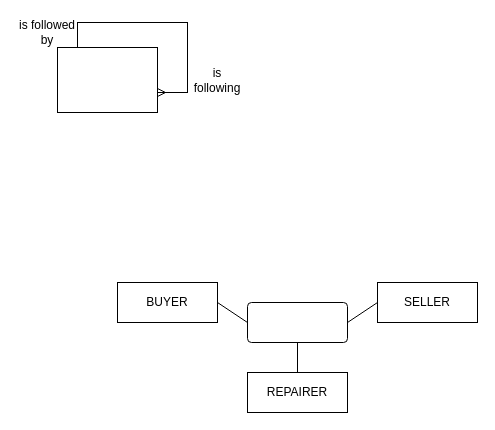
Image size: 495x430. Some labels were removed from this diagram. The centre of each missing label's shape, as x and y in pixels:
PRICE: the point at 297,322
USERS: the point at 107,79
